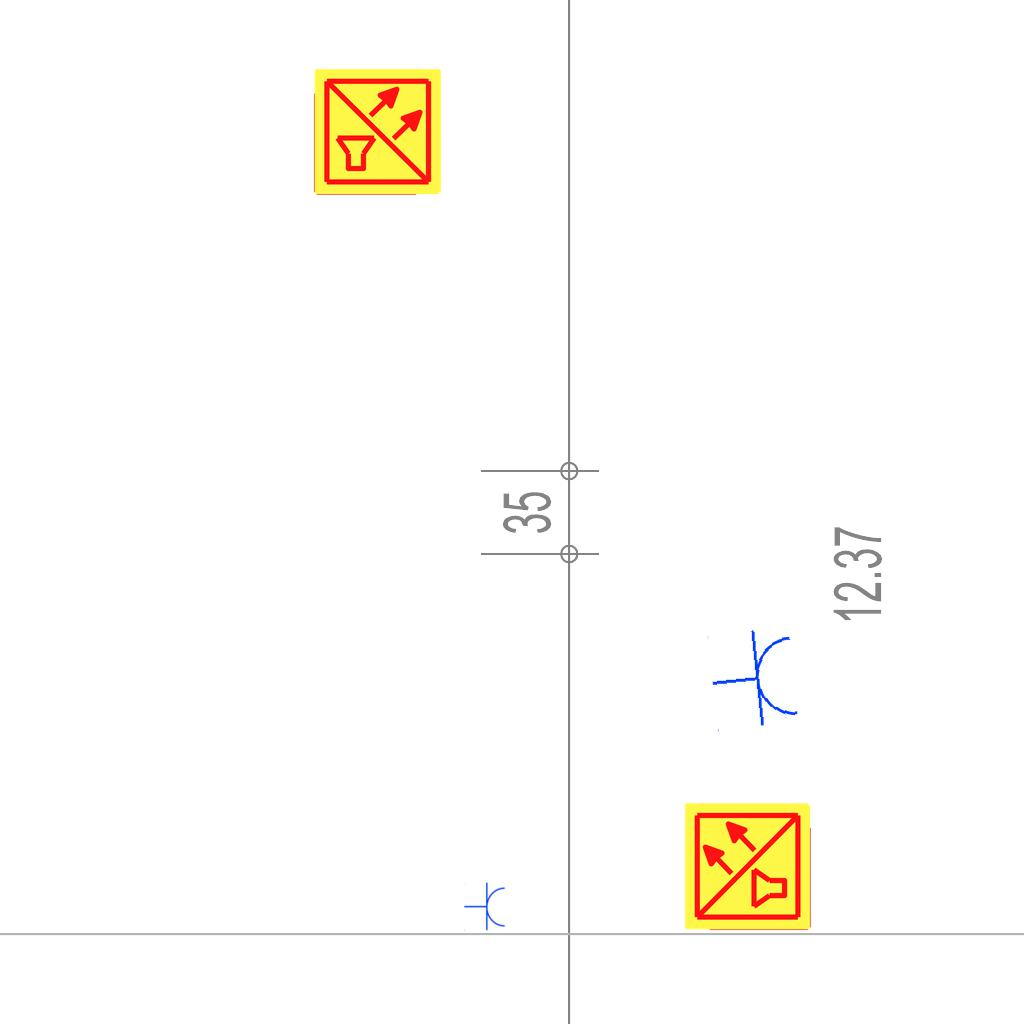OKW_Multisensormelder_(Kombination_optischer_Rauch-Kahlenmonoxid_Waerme-Melder): (312, 66, 444, 198), (682, 800, 814, 932)
Schukosteckdose_einfach: (706, 625, 804, 734), (464, 882, 507, 932)
